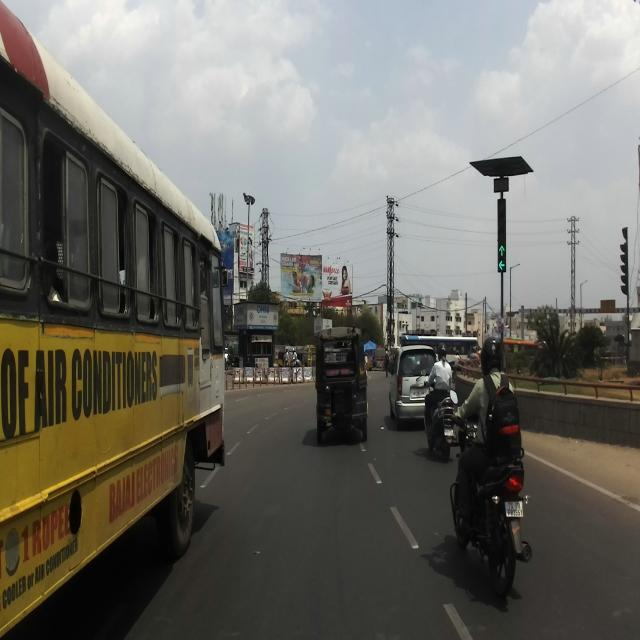autorickshaw: (313, 322, 369, 448)
bus: (0, 0, 229, 639)
car: (389, 344, 449, 430)
motorcycle: (448, 388, 535, 599)
scooter: (420, 369, 458, 461)
